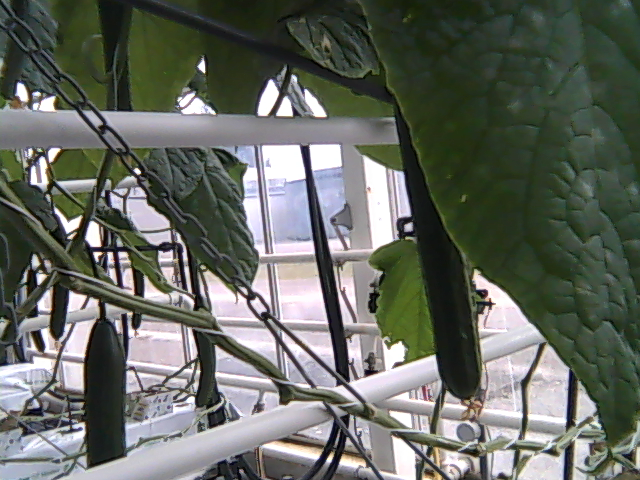concombre: (384, 86, 488, 421)
